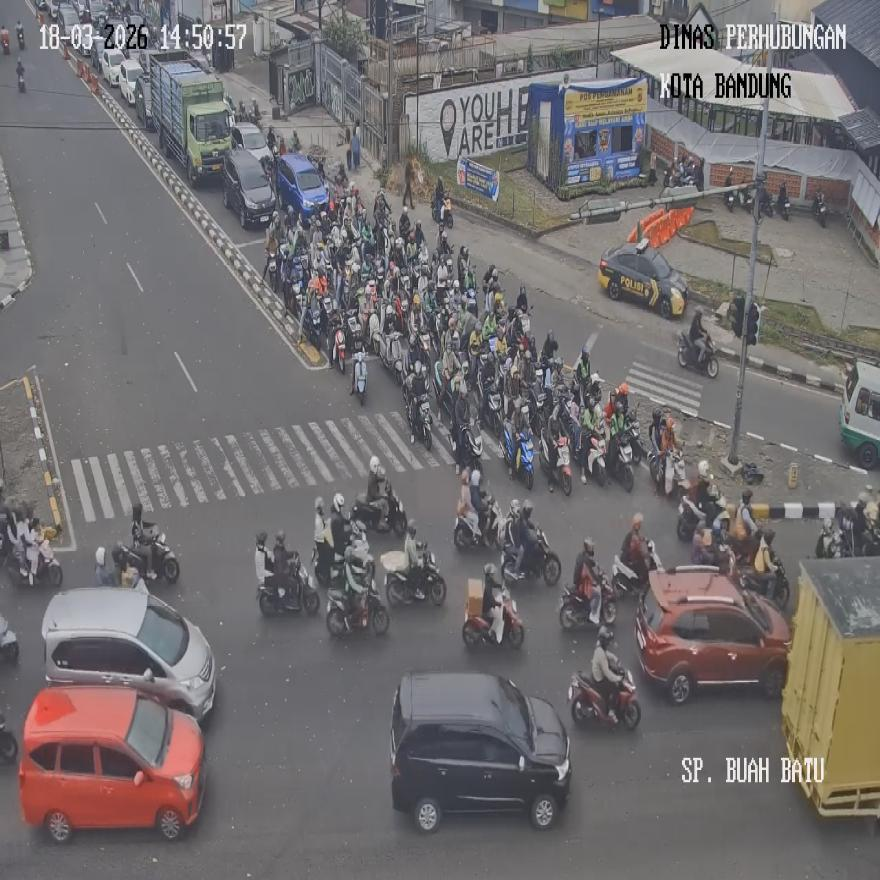Motor: (16, 686, 206, 842), (389, 669, 570, 831), (40, 583, 216, 722), (635, 563, 792, 703), (839, 360, 879, 470), (222, 149, 276, 229)
Truk: (568, 666, 640, 730), (384, 541, 446, 606), (462, 585, 524, 648), (257, 555, 319, 616), (326, 577, 388, 638), (558, 570, 616, 630), (503, 528, 561, 585), (5, 534, 62, 587), (612, 539, 661, 599), (121, 532, 178, 583), (740, 556, 790, 612), (677, 490, 728, 543), (454, 491, 499, 550), (350, 484, 400, 533), (538, 431, 572, 495), (502, 422, 533, 490), (650, 446, 686, 499), (678, 331, 718, 378), (454, 423, 483, 486), (301, 298, 329, 361), (607, 432, 635, 491), (407, 392, 432, 451), (580, 433, 607, 485), (814, 516, 848, 557), (482, 381, 504, 440), (380, 328, 404, 382), (0, 612, 19, 663), (0, 715, 18, 763), (330, 326, 346, 374), (352, 350, 366, 404), (433, 196, 453, 228), (266, 251, 281, 292), (740, 181, 758, 214), (724, 168, 737, 212), (812, 190, 826, 228), (776, 185, 789, 221), (0, 26, 10, 52), (17, 23, 26, 50), (18, 64, 25, 92)
